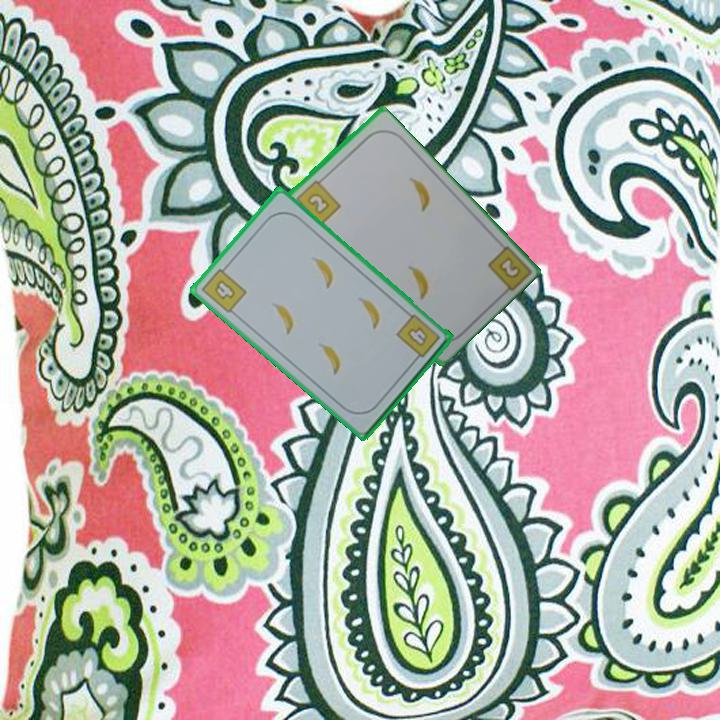2b: (292, 174, 343, 228), (497, 256, 521, 279)
4b: (198, 260, 250, 316), (392, 311, 443, 365)
